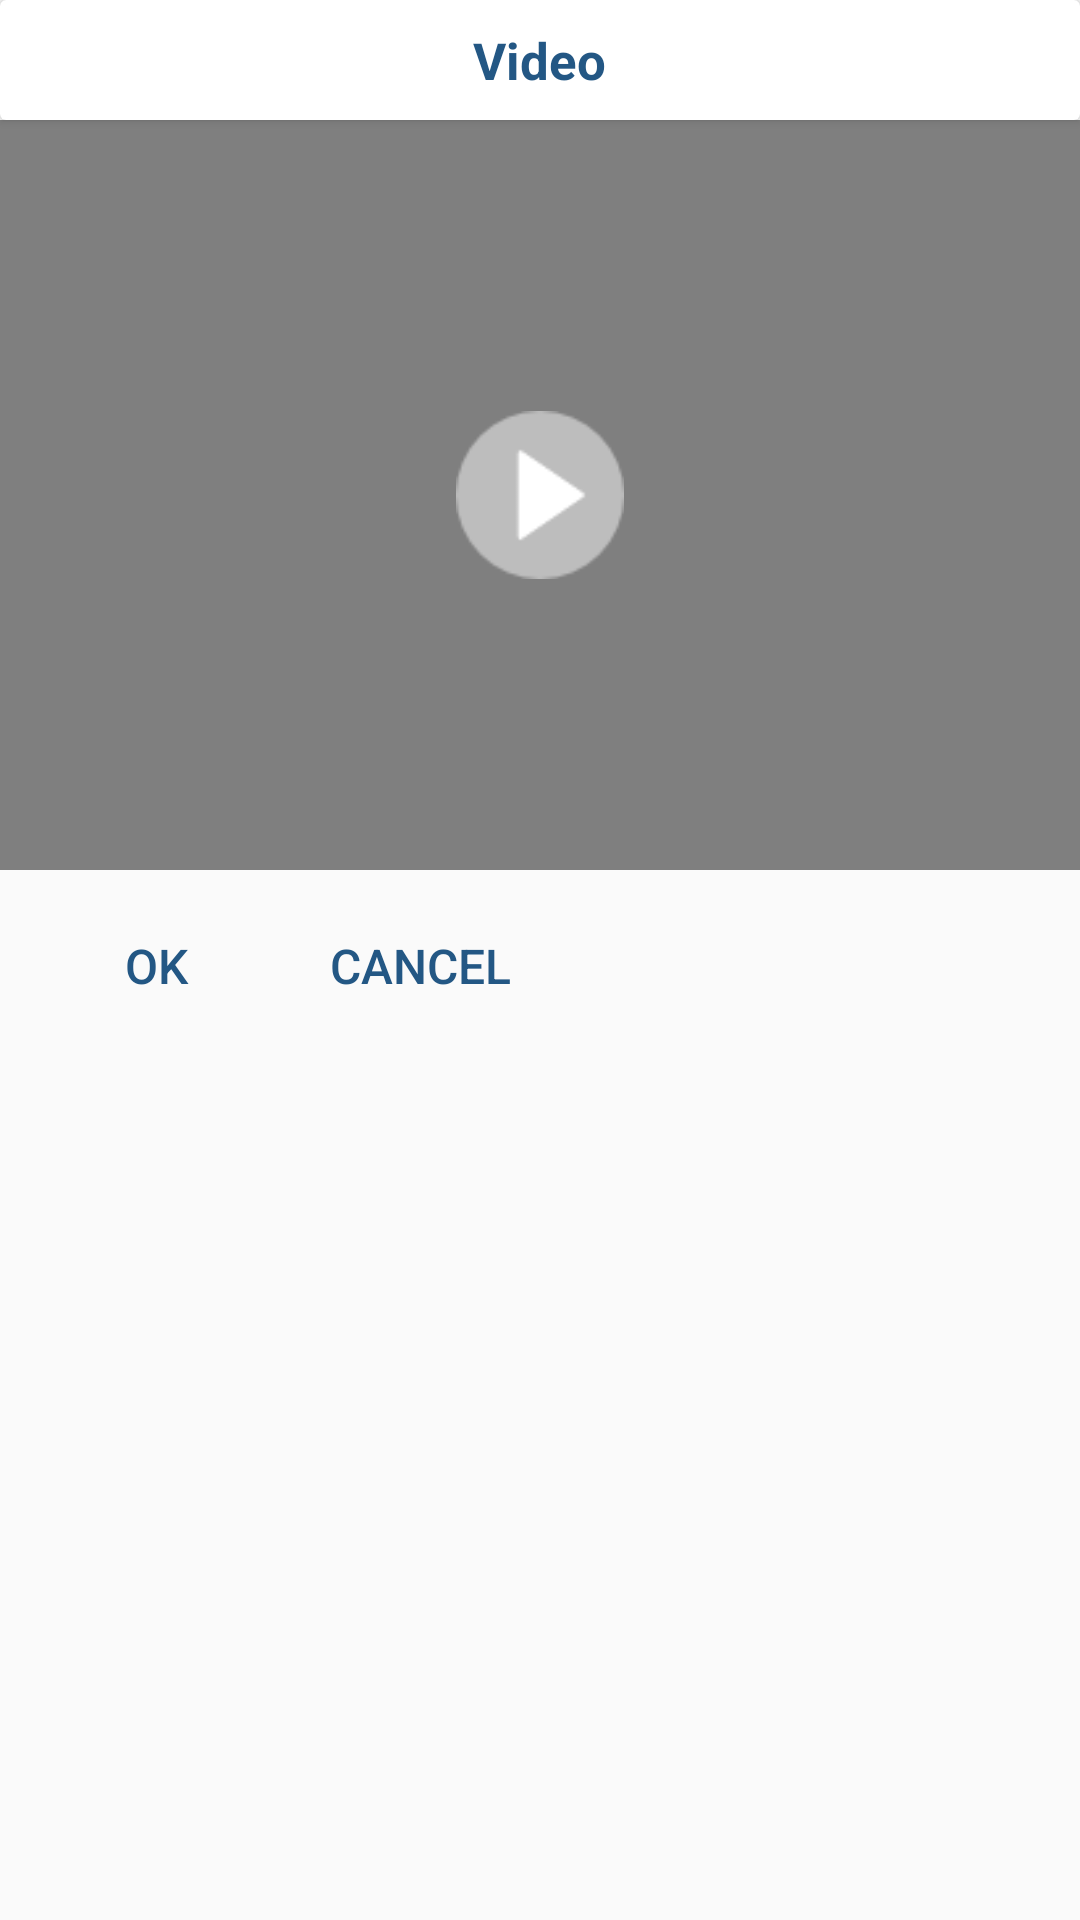

Icon click points for this 1080px×1920px phone screenshot, format point (x, y):
play: point (540, 495)
